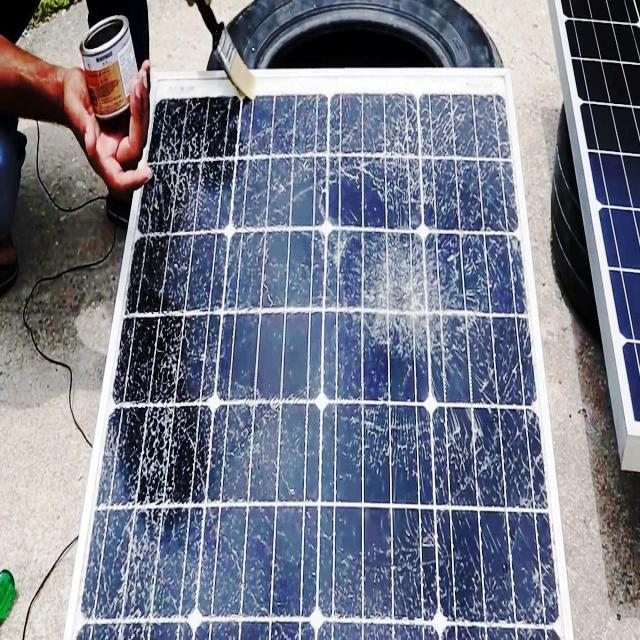faulty: (74, 71, 565, 631)
no faulty: (558, 0, 640, 434)
